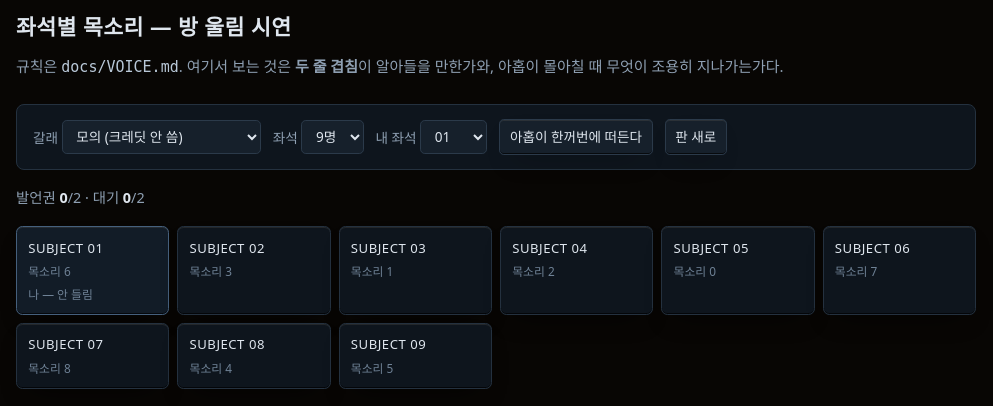
it: /voice — 말하면 판정이 남는다 › 좌석 수를 줄이면 그만큼만 선다
Select "3명" in the dropdown labelled "좌석" at [332, 137], box [301,120,364,154]
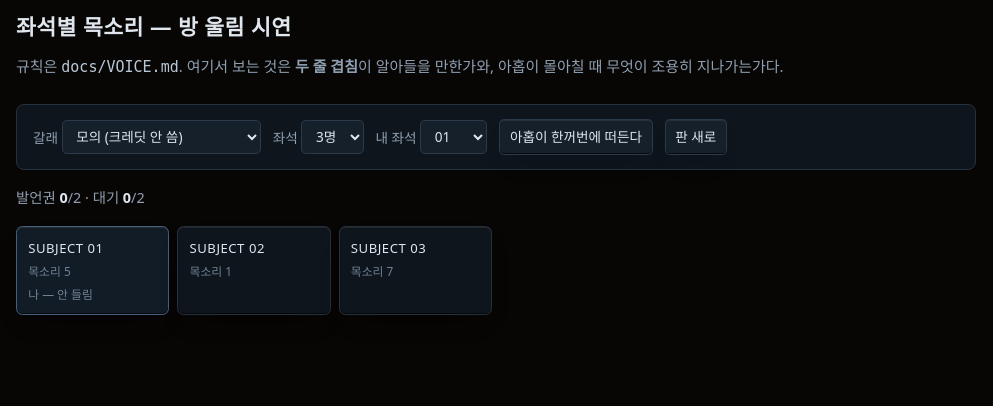
Expected: the button "SUBJECT 03 목소리 7" is shown, [339,226,492,315]
Expected: the button "SUBJECT 09" is gone
